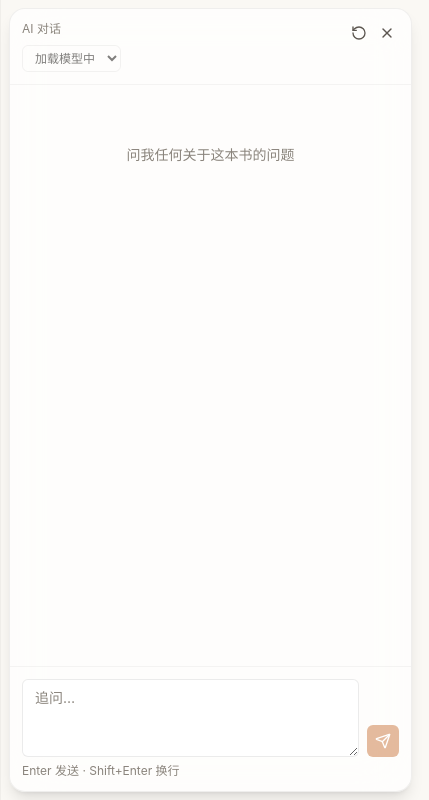
Scenario: AISidebar › announces streaming chat errors and keeps retry available
The width and height of the screenshot is (429, 800).
In the text box with placeholder "追问…": (190, 718) [22, 679, 359, 757], type "为什么这样理解？"
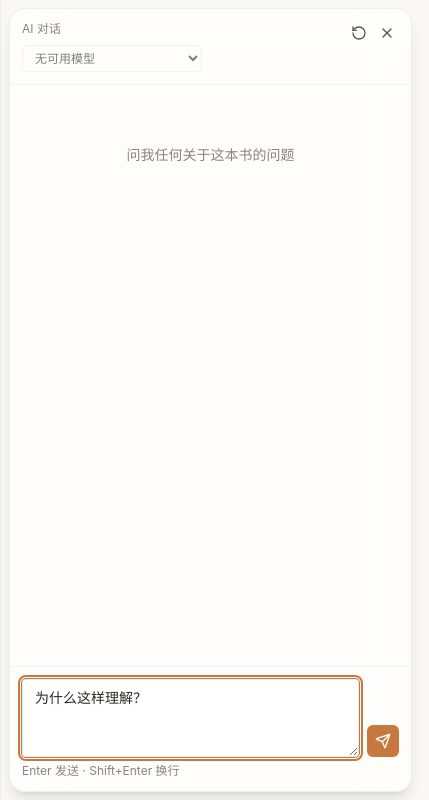
Click the button named "发送": (383, 741) [367, 725, 399, 757]
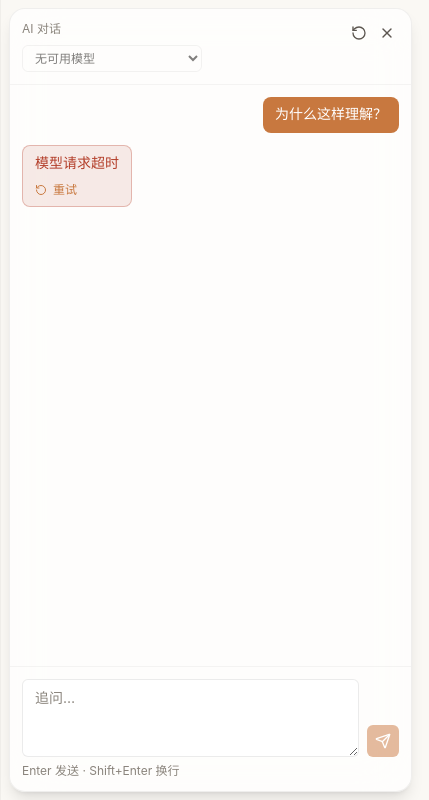
Result: the message shows "模型请求超时" at [35, 156, 119, 171]
Click the button "重试": (56, 190) [35, 182, 77, 198]
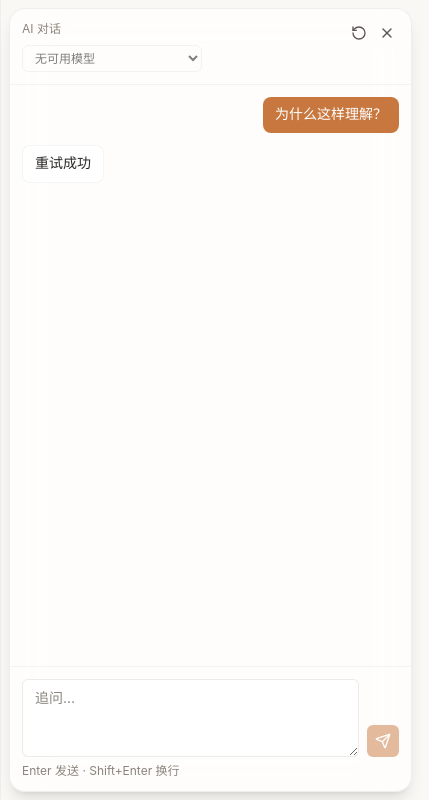
Result: the text "重试成功" is shown at [22, 145, 104, 183]
